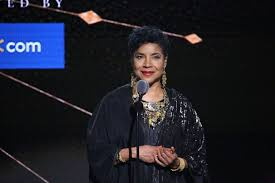black_female: (127, 36, 174, 90)
